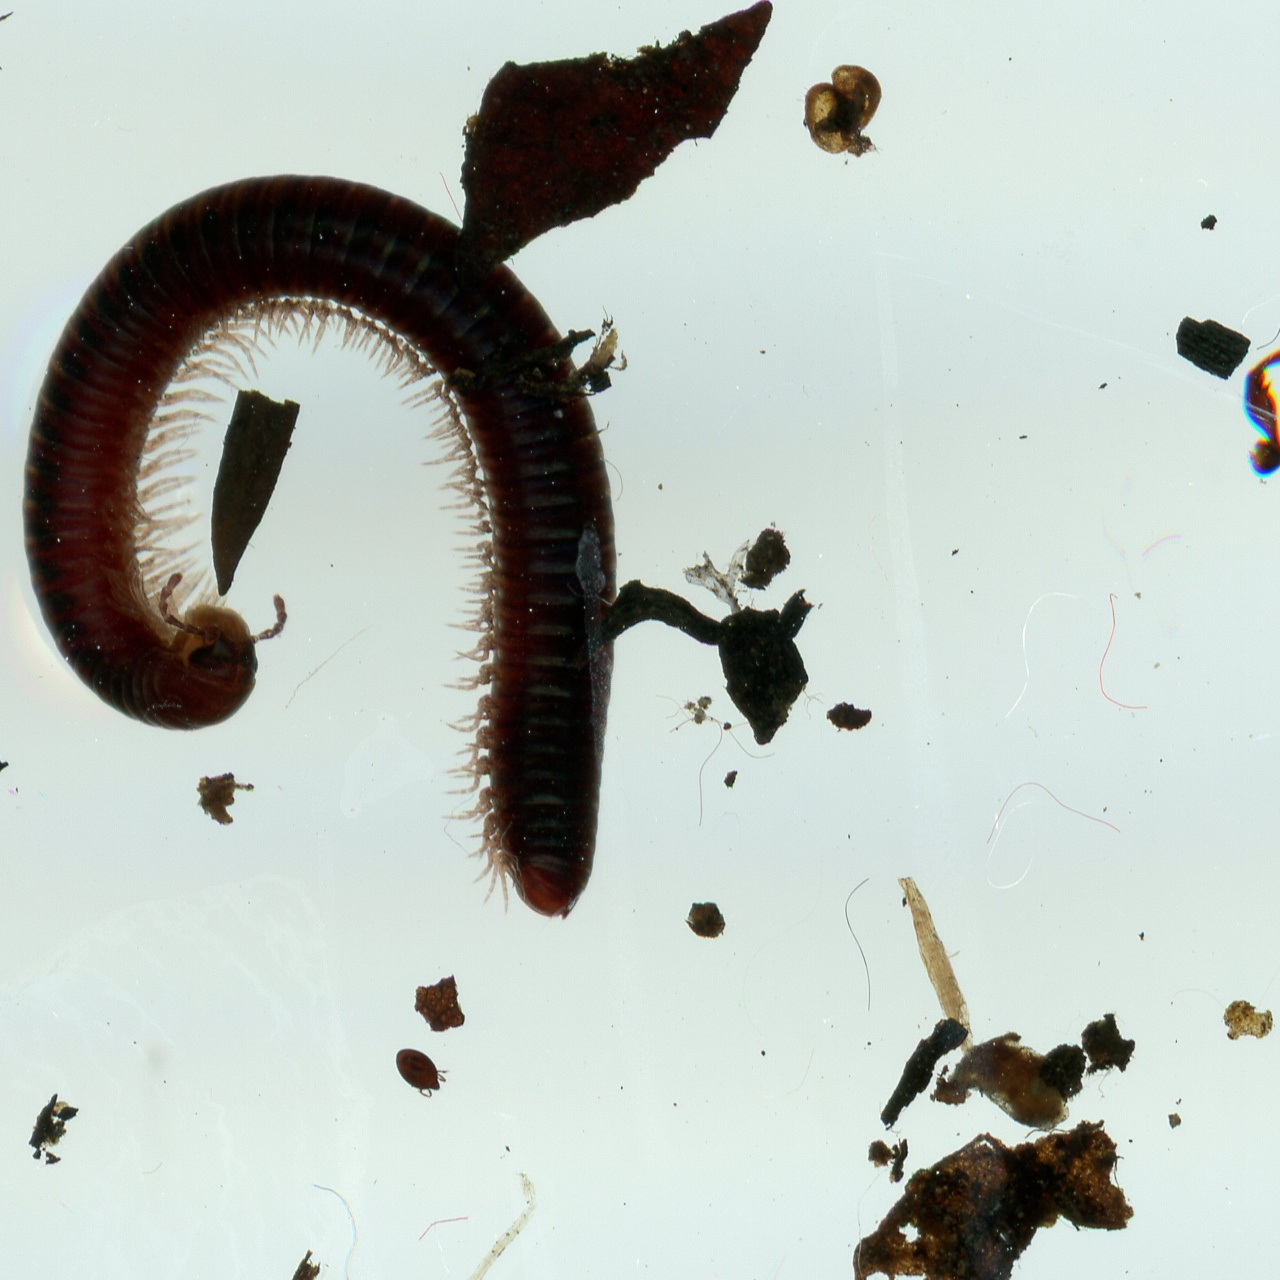arthropod: (11, 162, 629, 926), (382, 1034, 457, 1106)
